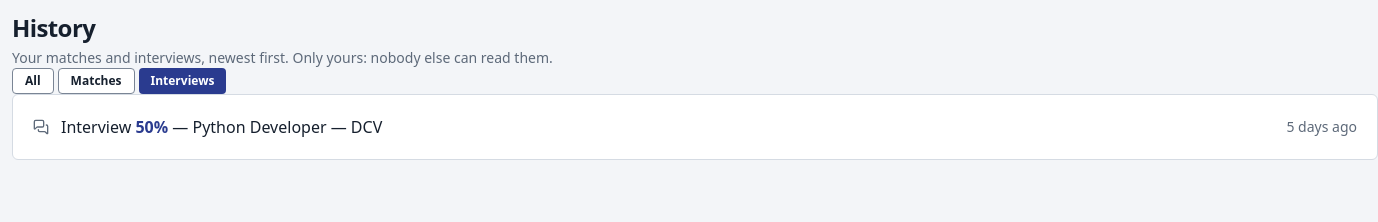
Test: the filter narrows the timeline and lives in the address
expect the link "Interview 50% — Python Developer — DCV" is shown: met, box [61,116,382,138]
Click the button "All".
click(33, 81)  # box [12,68,54,94]
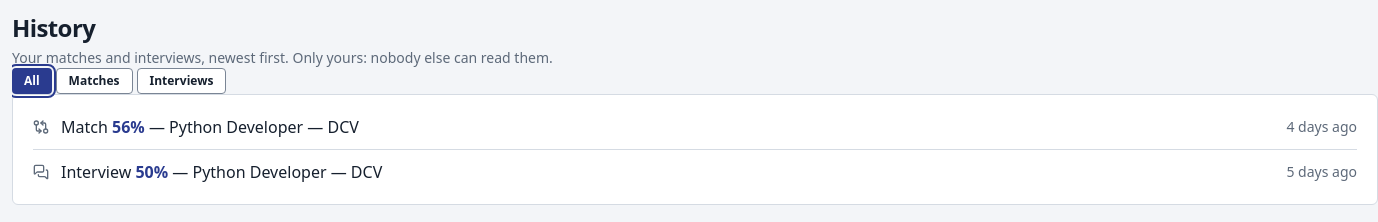
expect the link "Match 56% — Python Developer — DCV" is shown: met, box [61,116,359,138]
